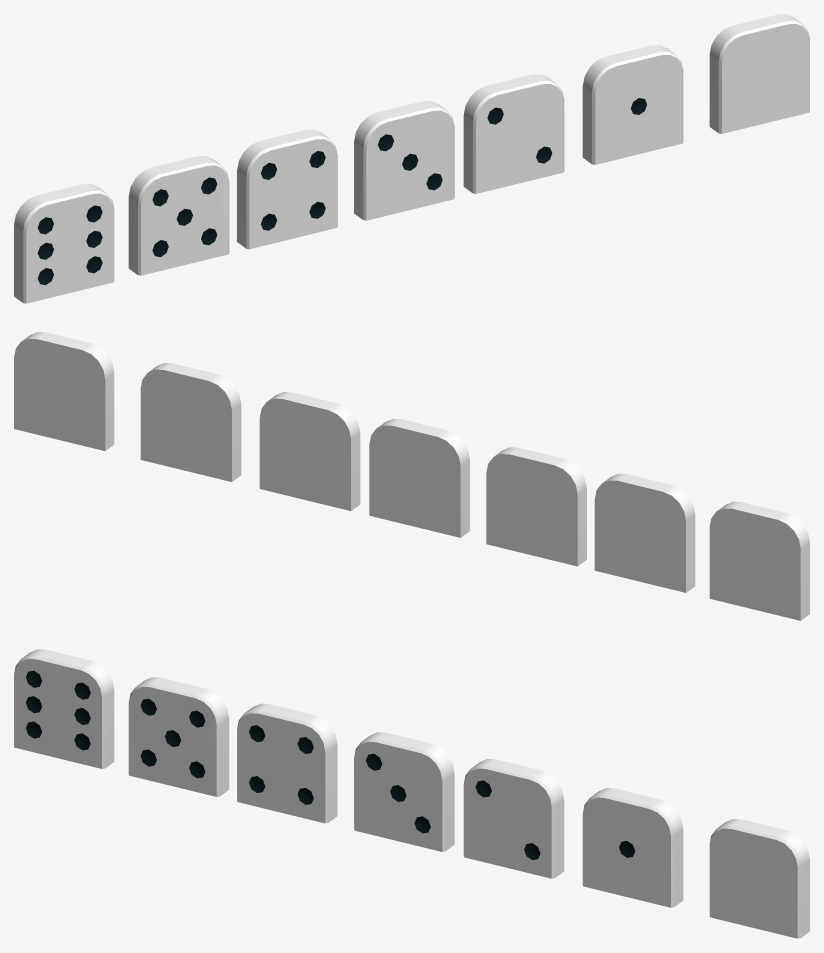
Rendered from Dominos_UVs.fbx.
3 views of the same model, one above another, from view 1: azimuth 30°, elevation 25°; view 2: azimuth 150°, elevation 25°; view 3: azimuth 330°, elevation 25° (orthographic).
Parts seen in each view (by area): view 1: Domino_2, Domino_5, Domino_1, Domino_4, Domino_0, Domino_3, Domino_6; view 2: Domino_2, Domino_1, Domino_5, Domino_3, Domino_6, Domino_4, Domino_0; view 3: Domino_5, Domino_1, Domino_2, Domino_4, Domino_6, Domino_3, Domino_0.
Part boxes in pixels (x1,y1,x2,y2): Domino_2: [463, 74, 564, 193]; Domino_5: [128, 156, 229, 275]; Domino_1: [582, 45, 683, 164]; Domino_4: [237, 129, 337, 249]; Domino_0: [709, 14, 809, 133]; Domino_3: [354, 101, 454, 220]; Domino_6: [14, 184, 114, 303]; Domino_2: [259, 392, 360, 510]; Domino_1: [140, 363, 241, 481]; Domino_5: [594, 473, 695, 592]; Domino_3: [369, 418, 469, 537]; Domino_6: [709, 501, 809, 620]; Domino_4: [486, 447, 586, 566]; Domino_0: [14, 332, 114, 450]; Domino_5: [128, 677, 229, 796]; Domino_1: [582, 788, 683, 907]; Domino_2: [463, 759, 564, 878]; Domino_4: [237, 703, 337, 823]; Domino_6: [14, 649, 114, 768]; Domino_3: [354, 732, 454, 851]; Domino_0: [709, 819, 809, 938].
Bounding box in the file's own units: 43.1 × 5 × 1.
